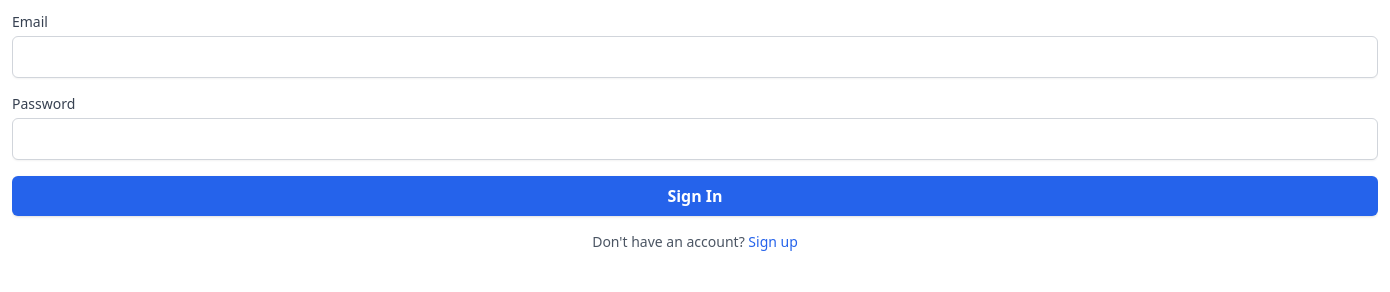
Test: SignInForm › shows inline error when email is empty on submit
The image size is (1390, 292).
Type "password123" into the password field labelled "Password".
click(695, 139); type("password123")  # box x1=12 y1=118 x2=1378 y2=160
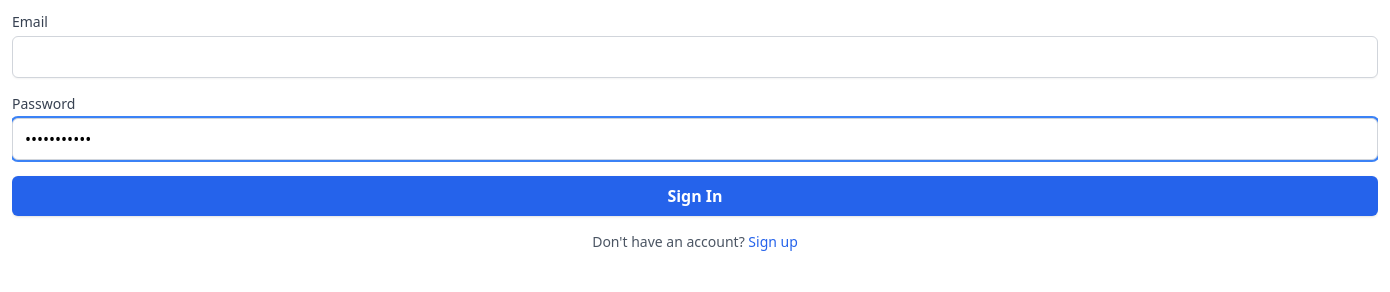
Click the button "Sign In".
click(695, 196)  # box x1=12 y1=176 x2=1378 y2=216
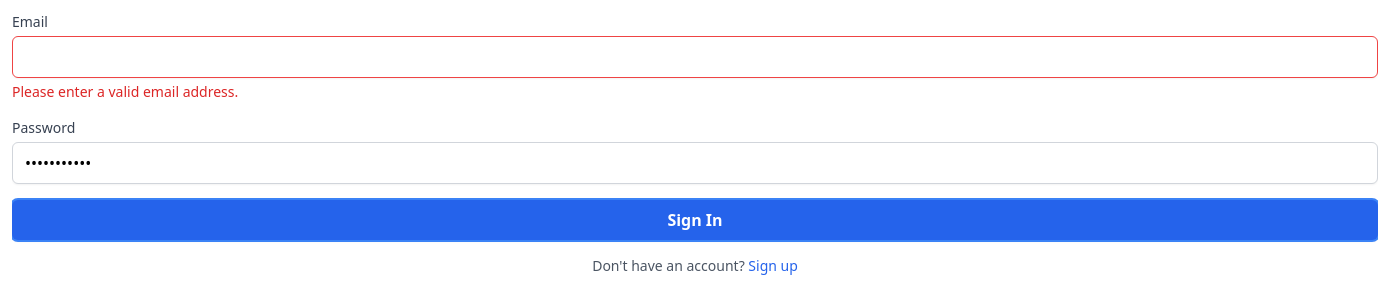
Expected: the text "Please enter a valid email address." is shown, x1=12 y1=82 x2=238 y2=101
